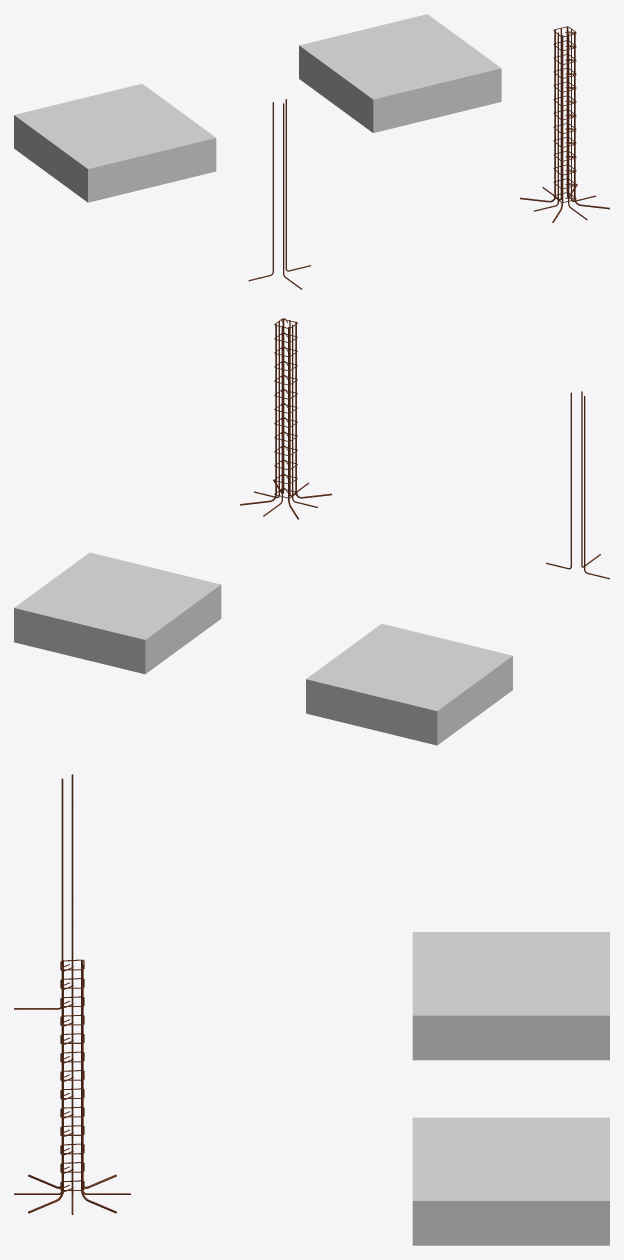
3 renders of one model, top to bottom at view 1: azimuth 30°, elevation 25°; view 2: azimuth 150°, elevation 25°; view 3: azimuth 270°, elevation 25°, orthographic. The views are drawn at different scales.
Parts seen in each view (by area): view 1: Footing-Rectangular 1800 x 1800 x 450mm [329140]001, Footing-Rectangular 1800 x 1800 x 450mm [329237]001, Rebar Bar H10 : Shape 52 [368381]_[319274]001, Rebar Bar H20 : Shape Rebar Shape 1 [368385]_[319274]001, Rebar Bar H20 : Shape Rebar Shape 1 [368382]_[319274]001, Rebar Bar H20 : Shape Rebar Shape 1 [368384]_[319274]001, Rebar Bar H16 : Shape Rebar Shape 1 [368376]_[319274]001, Rebar Bar H16 : Shape Rebar Shape 1 [368377]_[319274]001, Rebar Bar H16 : Shape Rebar Shape 1 [368378]_[319274]001; view 2: Footing-Rectangular 1800 x 1800 x 450mm [329237]001, Footing-Rectangular 1800 x 1800 x 450mm [329140]001, Rebar Bar H10 : Shape 52 [368381]_[319274]001; view 3: Footing-Rectangular 1800 x 1800 x 450mm [329140]001, Footing-Rectangular 1800 x 1800 x 450mm [329237]001, Rebar Bar H10 : Shape 52 [368381]_[319274]001, Rebar Bar H20 : Shape Rebar Shape 1 [368383]_[319274]001, Rebar Bar H16 : Shape Rebar Shape 1 [368388]_[319274]001, Rebar Bar H16 : Shape Rebar Shape 1 [368378]_[319274]001.
Boxes of the visible parts, bbox=[...] form: Footing-Rectangular 1800 x 1800 x 450mm [329140]001: bbox=[14, 83, 216, 202]; Footing-Rectangular 1800 x 1800 x 450mm [329237]001: bbox=[299, 14, 501, 132]; Rebar Bar H10 : Shape 52 [368381]_[319274]001: bbox=[553, 26, 576, 202]; Rebar Bar H20 : Shape Rebar Shape 1 [368385]_[319274]001: bbox=[552, 35, 563, 222]; Rebar Bar H20 : Shape Rebar Shape 1 [368382]_[319274]001: bbox=[520, 29, 555, 202]; Rebar Bar H20 : Shape Rebar Shape 1 [368384]_[319274]001: bbox=[574, 32, 609, 209]; Rebar Bar H16 : Shape Rebar Shape 1 [368376]_[319274]001: bbox=[248, 102, 273, 281]; Rebar Bar H16 : Shape Rebar Shape 1 [368377]_[319274]001: bbox=[285, 99, 310, 271]; Rebar Bar H16 : Shape Rebar Shape 1 [368378]_[319274]001: bbox=[283, 103, 302, 289]; Footing-Rectangular 1800 x 1800 x 450mm [329237]001: bbox=[14, 552, 221, 674]; Footing-Rectangular 1800 x 1800 x 450mm [329140]001: bbox=[306, 624, 512, 745]; Rebar Bar H10 : Shape 52 [368381]_[319274]001: bbox=[274, 318, 297, 498]; Footing-Rectangular 1800 x 1800 x 450mm [329140]001: bbox=[412, 932, 609, 1060]; Footing-Rectangular 1800 x 1800 x 450mm [329237]001: bbox=[412, 1117, 609, 1245]; Rebar Bar H10 : Shape 52 [368381]_[319274]001: bbox=[60, 959, 84, 1191]; Rebar Bar H20 : Shape Rebar Shape 1 [368383]_[319274]001: bbox=[81, 968, 116, 1213]; Rebar Bar H16 : Shape Rebar Shape 1 [368388]_[319274]001: bbox=[71, 968, 73, 1214]; Rebar Bar H16 : Shape Rebar Shape 1 [368378]_[319274]001: bbox=[14, 778, 63, 1009].
Size of the model in its own units: 5.8 by 2.41 by 5.43.
Materials: 2 (1 with a texture image).
